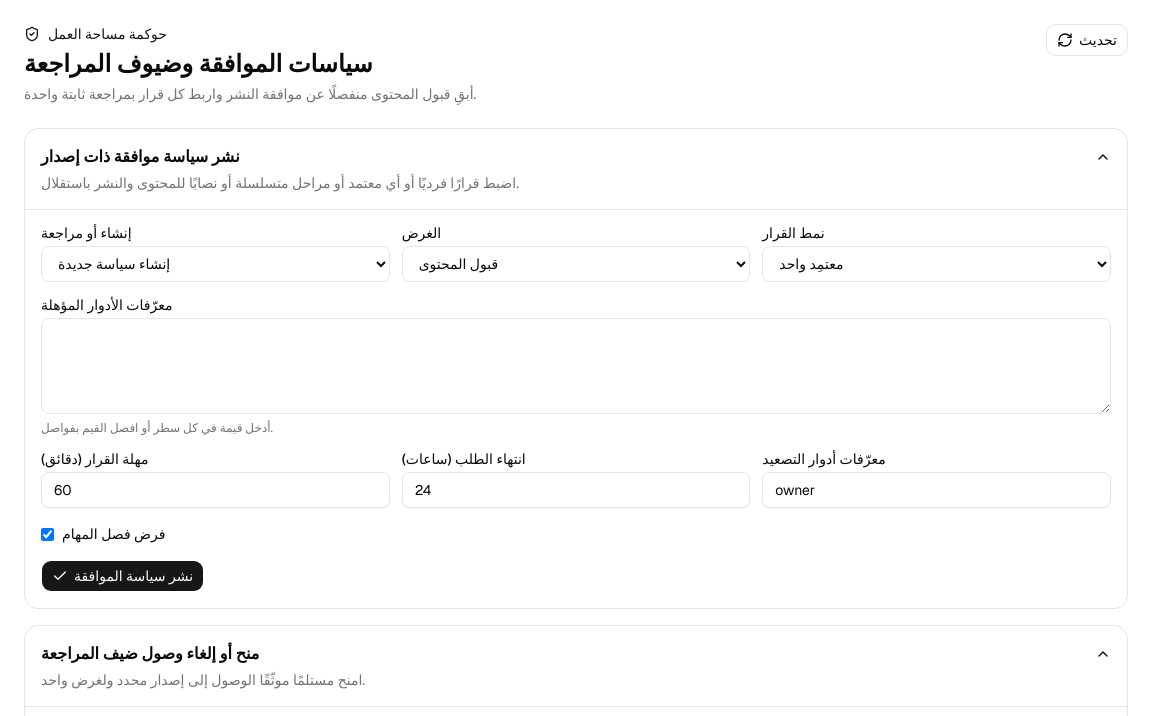
Test: GovernanceSettingsSurface › offers all Approval Policy decision modes in Arabic
Select "نصاب" in the dropdown labelled "نمط القرار" at (937, 264), box [762,246,1111,282]
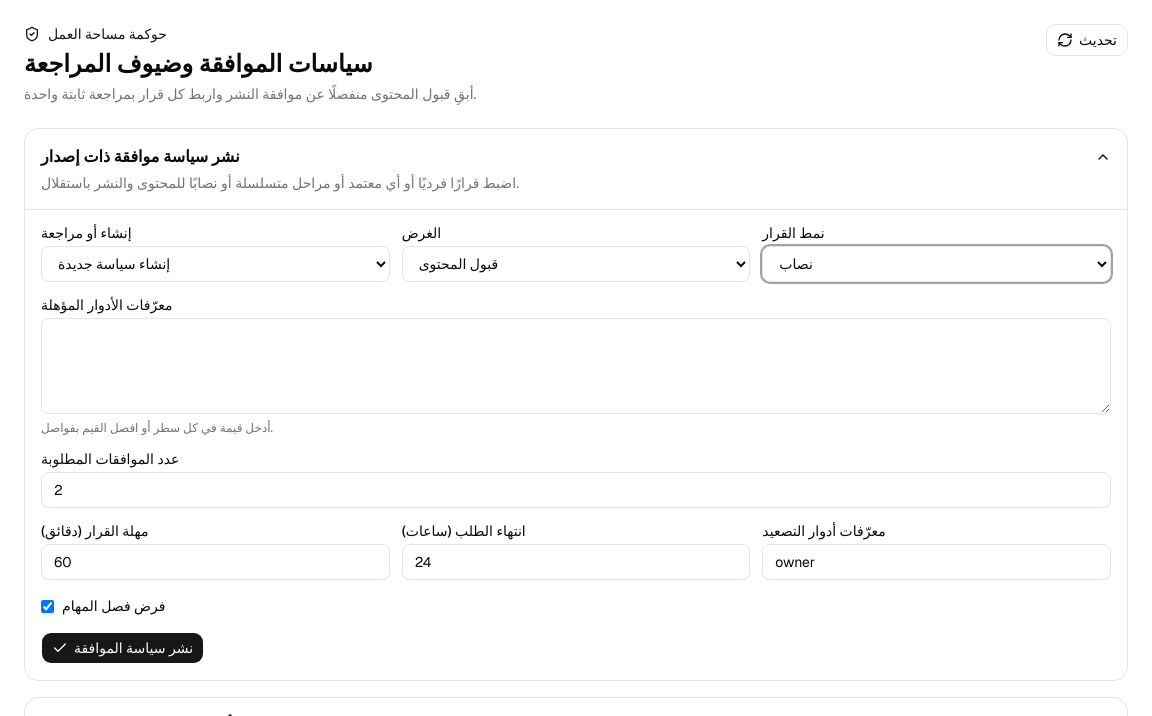
Expected: the number field labelled "عدد الموافقات المطلوبة" is shown, [41,472,1111,508]
